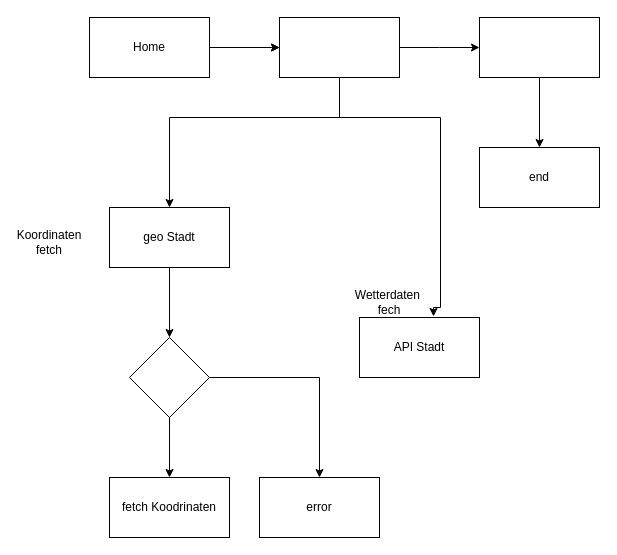
Some shapes in this 617 by 555 pixel diagram are drawn without their labels. Here are the shapes that lost their labels. From the top down, the centre of each, then its label:
At point (339, 47): "weathershow".
At point (539, 47): "weathermod".
At point (169, 377): "City existiert".
